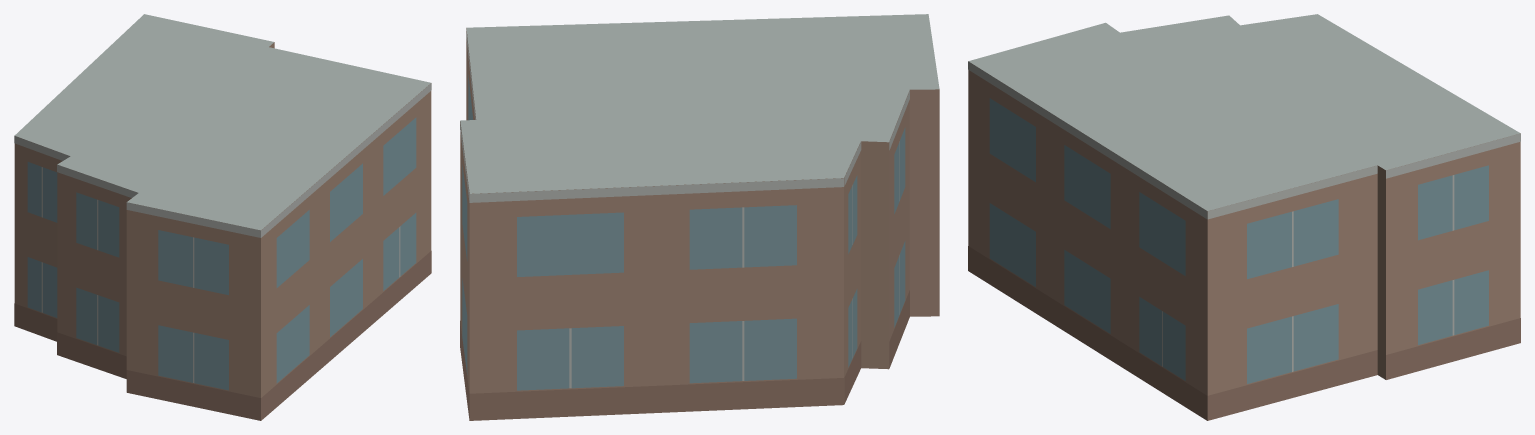
Rendered from survey-upis-33012782.glb.
3 views of the same model, side by side, from view 1: azimuth 30°, elevation 25°; view 2: azimuth 150°, elevation 25°; view 3: azimuth 270°, elevation 25° (orthographic). The views are drawn at different scales.
Parts seen in each view (by area): view 1: survey-upis-33012782.tmp; view 2: survey-upis-33012782.tmp; view 3: survey-upis-33012782.tmp.
Part boxes in pixels (x1,y1,x2,y2): survey-upis-33012782.tmp: (14,14,431,420); survey-upis-33012782.tmp: (460,14,939,420); survey-upis-33012782.tmp: (968,14,1520,420).
Bounding box in the file's own units: 12.31 × 6.1 × 14.57.
